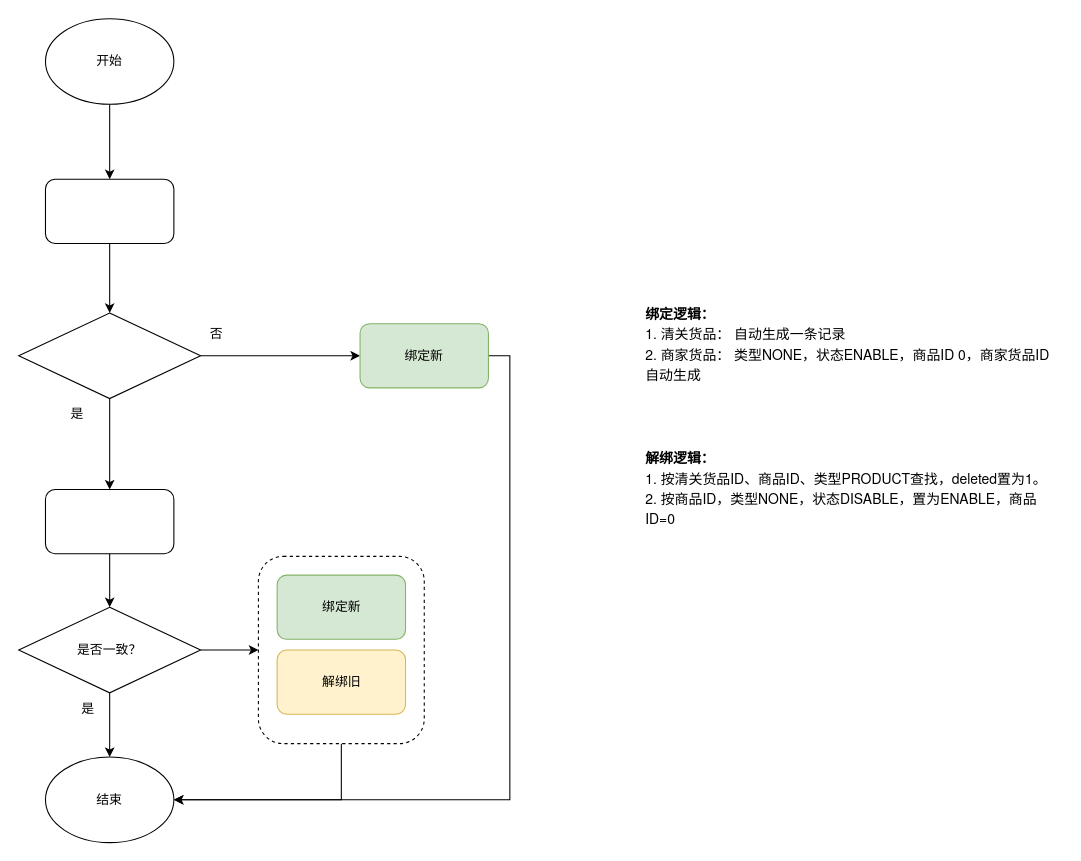
Some shapes in this 1081 by 861 pixel diagram are drawn without their labels. The centre of each missing label's shape, as x and y in pixels:
"是否存在？" goes at (109,355).
"比较旧货品ID与新货品ID是否" goes at (109,521).
"类型PRODUCT，状态ENABLE，商品ID查找" goes at (109,210).
